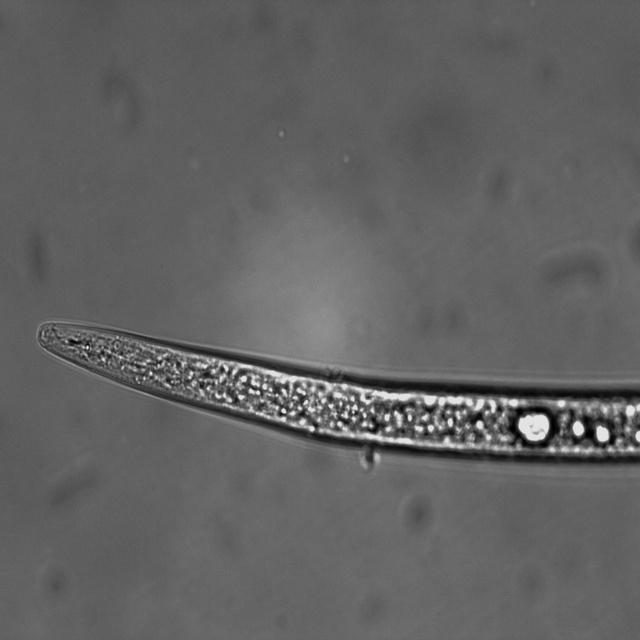Meloidogyne: (32, 314, 586, 471)
